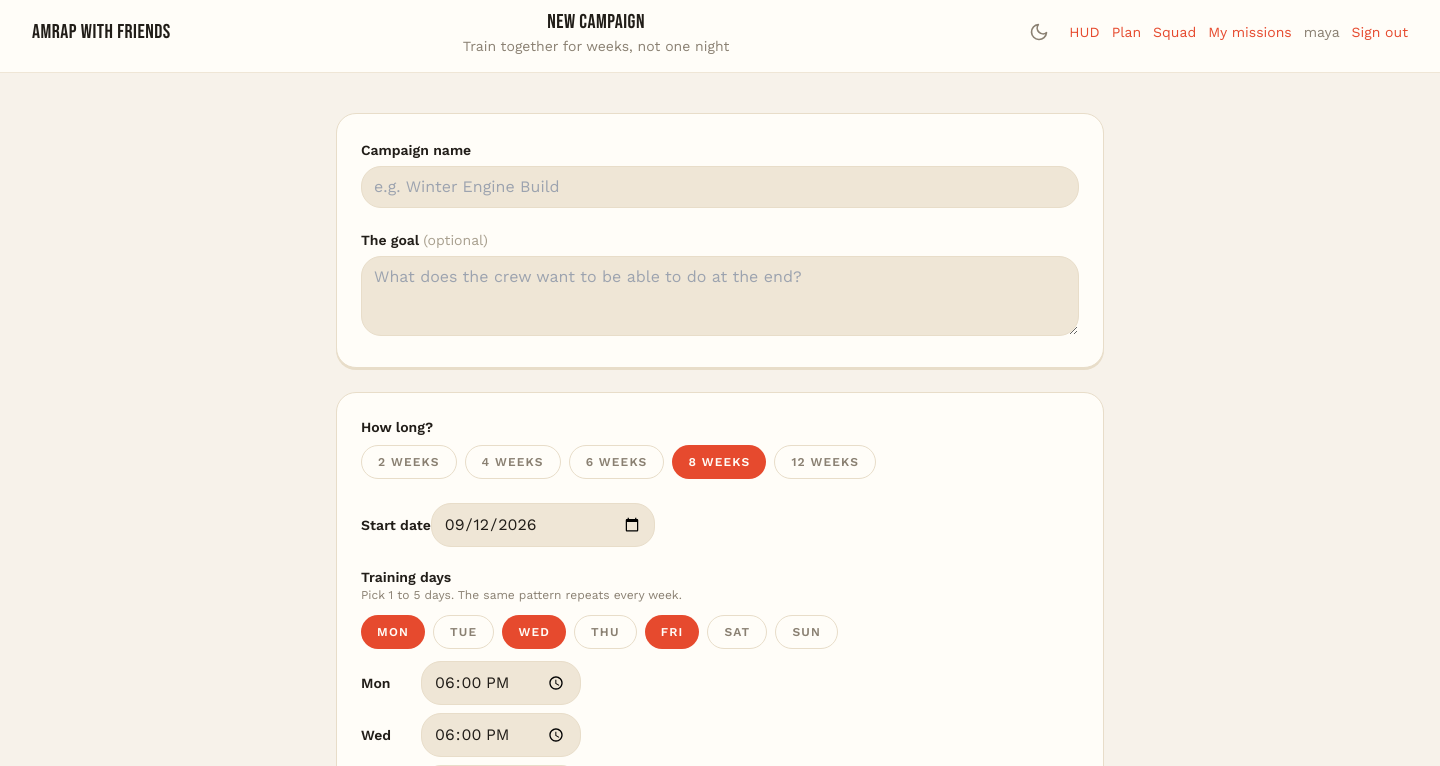
Test: CreateCampaignPage › re-previews when a training day is removed
Click the button "Wed" at (534, 632), box [502,615,566,649]
(page scrolled)
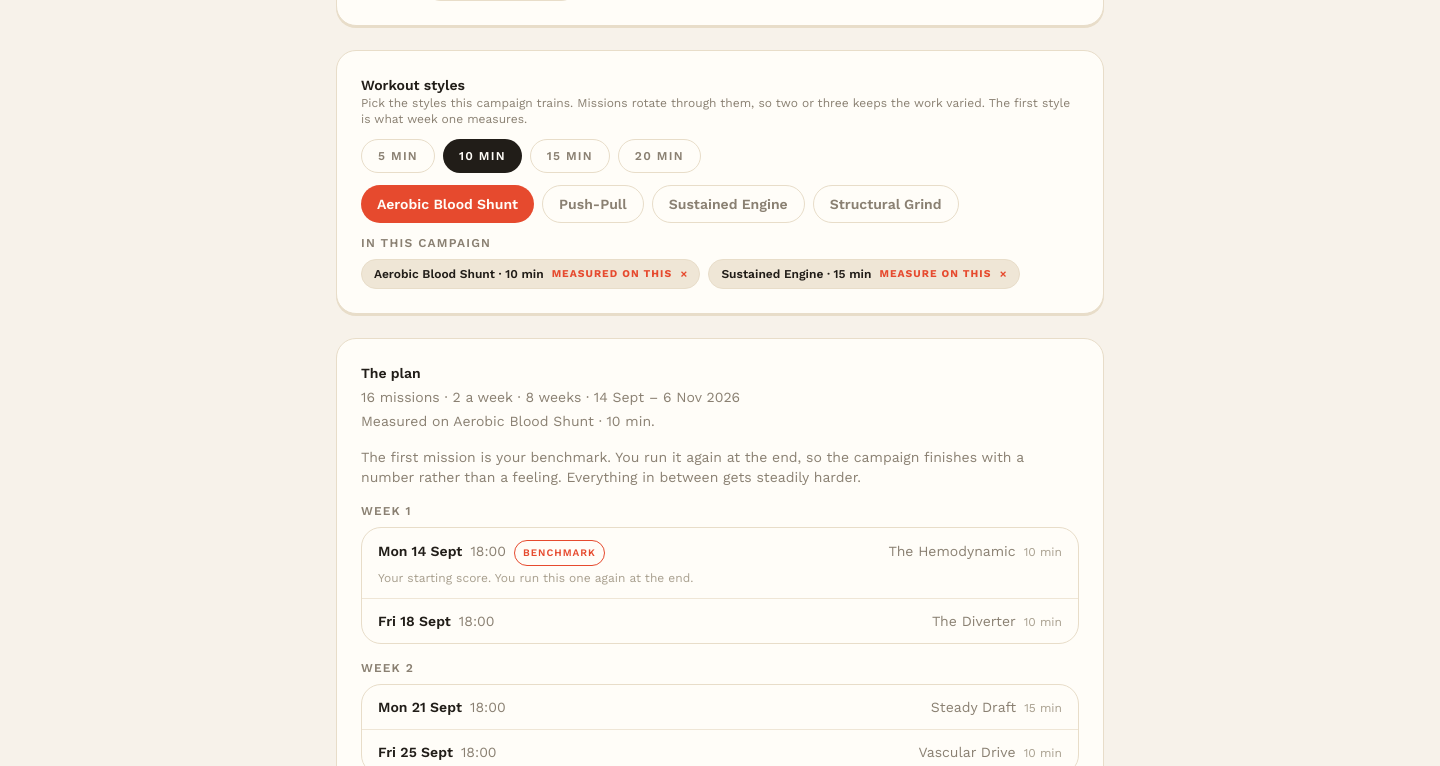
Expected: the text "16 missions · 2 a week · 8 weeks · 14 Sept – 6 Nov 2026" is shown, [361,389,740,405]
